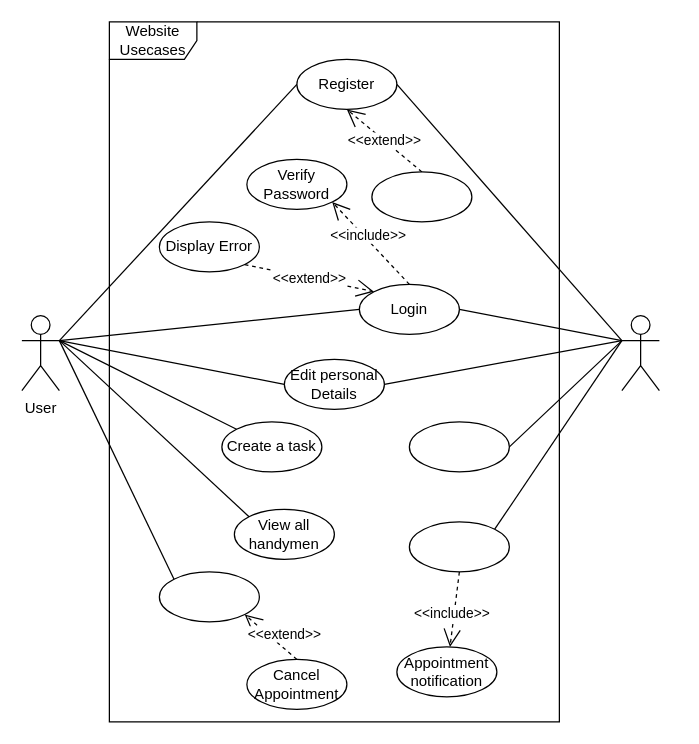
Image size: 699x744. Some labels were removed from this diagram. Each missing label, with the centre of its shape:
Appoint a handyman: the point at 208,596
Confirm Appointment: the point at 458,546
Handyman: the point at 640,352
Provide Work Details: the point at 421,196
Update Skills: the point at 458,446
